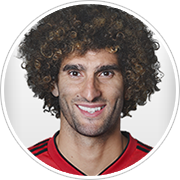smile: (71, 102, 110, 115)
